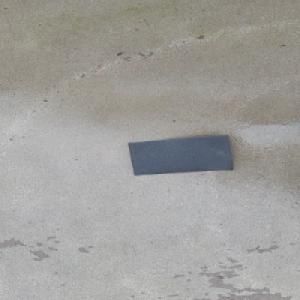PaintChip: (127, 134, 233, 176)
